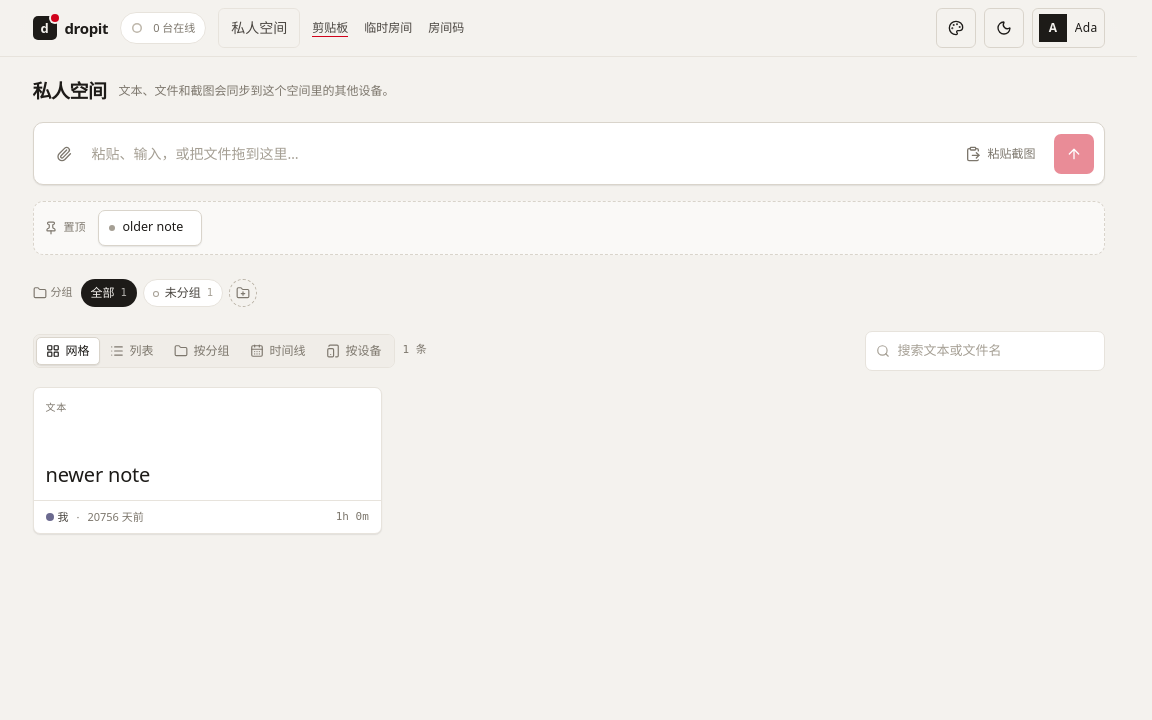
Test case: dropit web › pins clips, hides tags, and applies a remote label update
The width and height of the screenshot is (1152, 720).
Expected: the button named "发送" is shown, [1054,134,1094,174]
Expected: the text "older note" is shown, [122,218,183,237]
Step 1. Click the button "older note" → (150, 228), box [98,210,202,246]
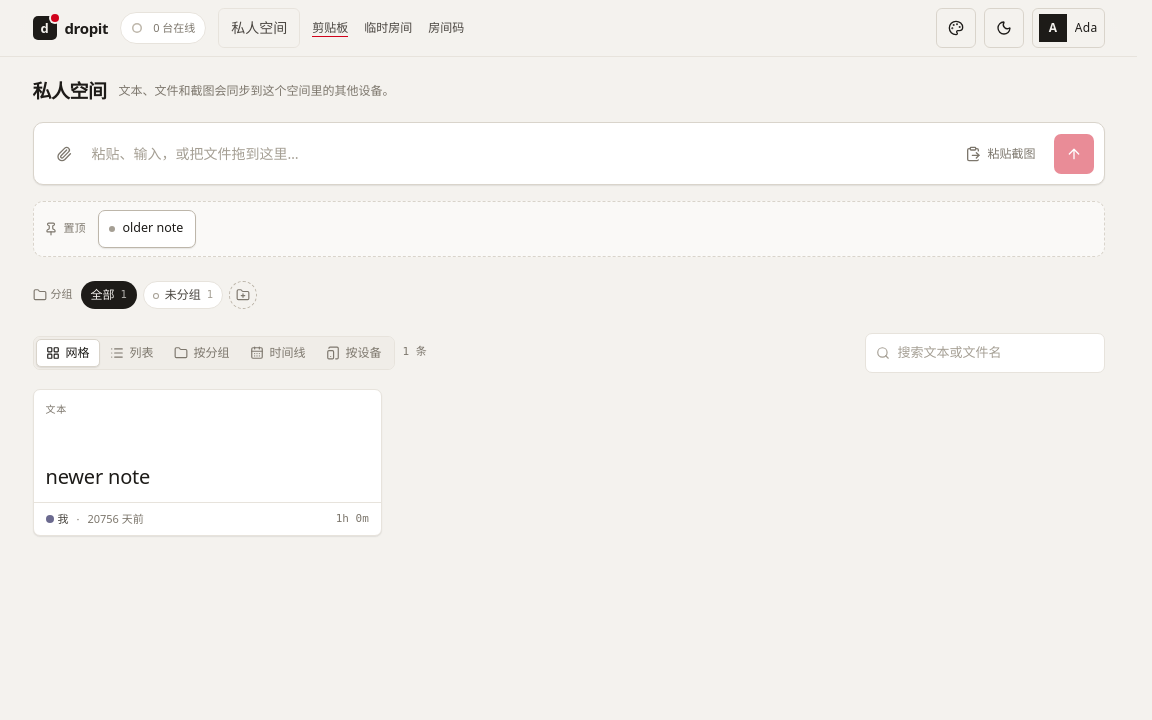
Expected: the button "older note" is expanded, [98,210,196,248]
Step 2. Type "草稿" into the search field labelled "搜索" → (984, 353), box [866,335,1104,370]
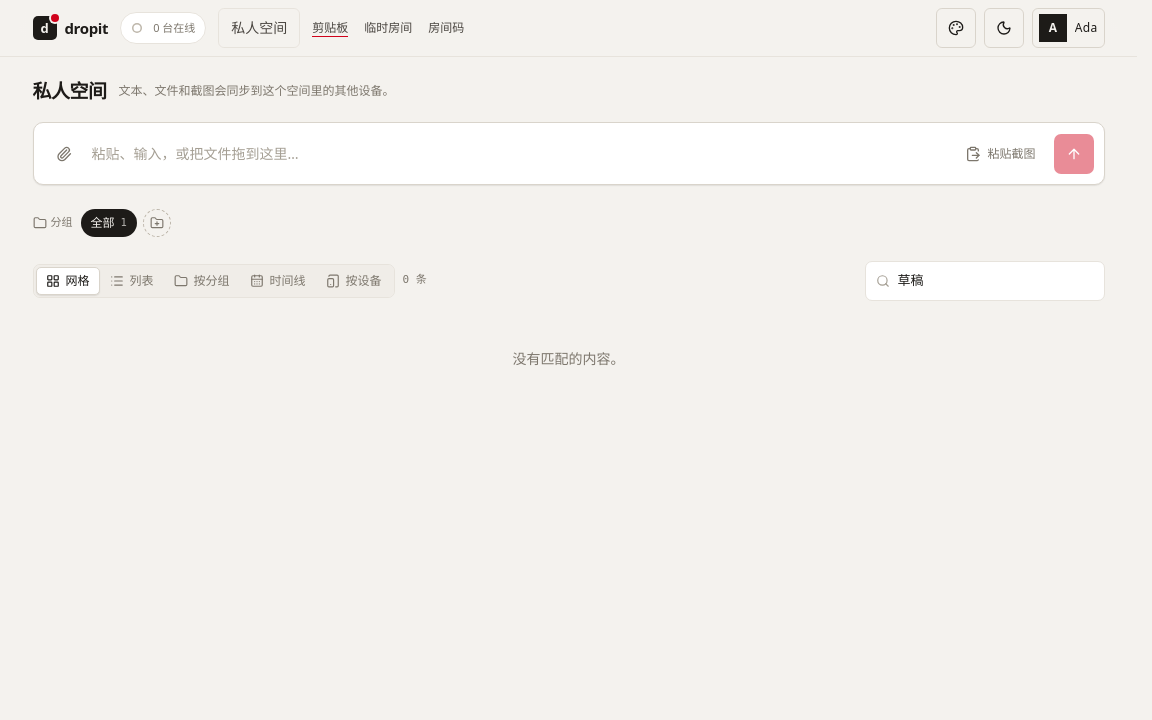
Expected: the text "newer note" is gone
Step 3. Replace the text in the search field named "搜索" with "newer" → (984, 281), box [866,263,1104,298]
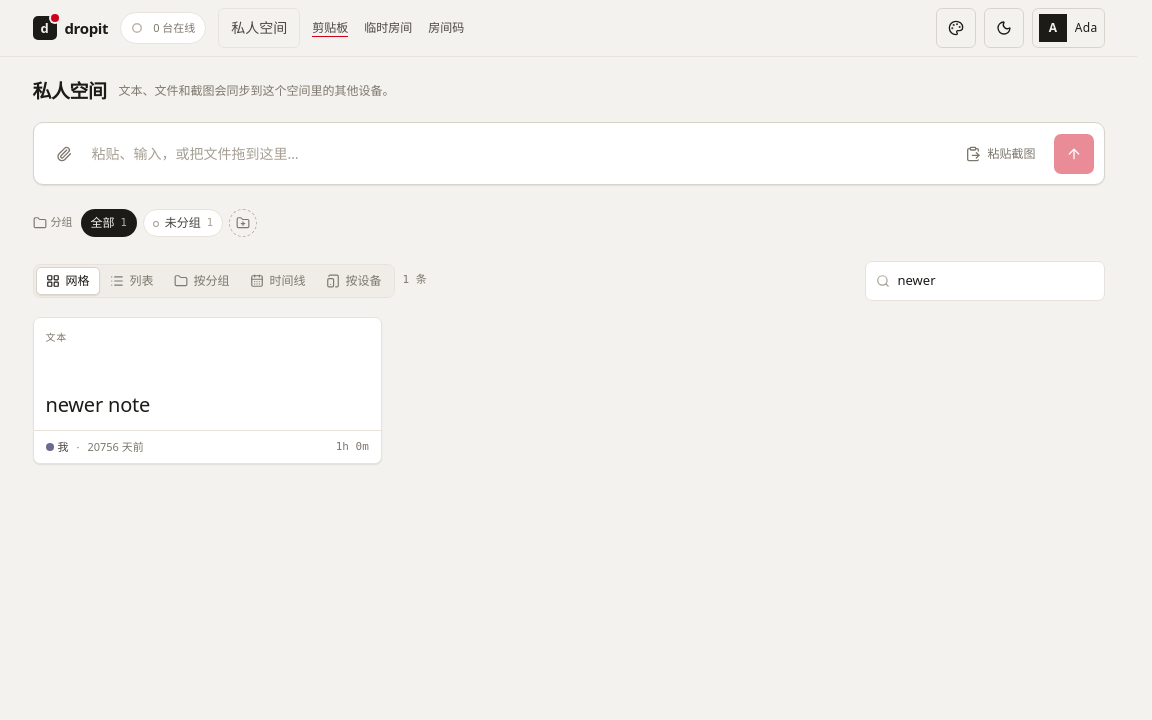
Expected: the text "newer note" is shown, [46,390,150,418]
Step 4. Clear the search field named "搜索" → (984, 281), box [866,263,1104,298]
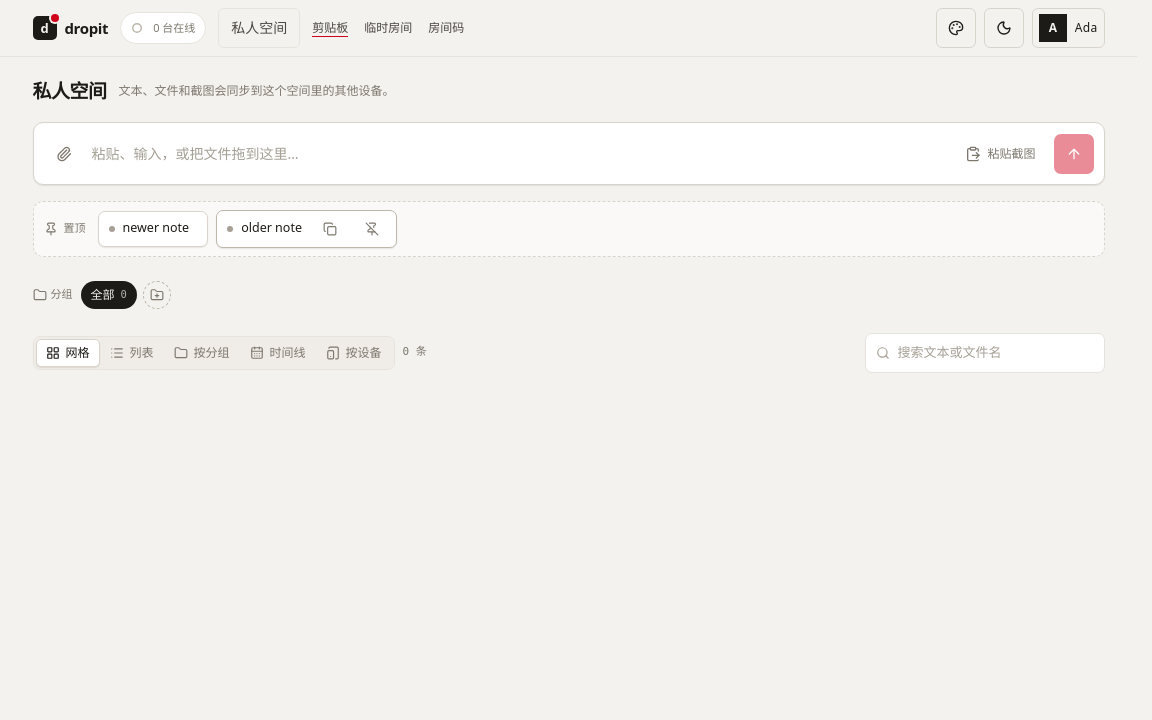
Expected: the text "newer note" is shown, [122,219,189,238]
Expected: the text "older note" is shown, [241,219,302,238]
Expected: the text "置顶" is shown once, [44,220,90,237]
